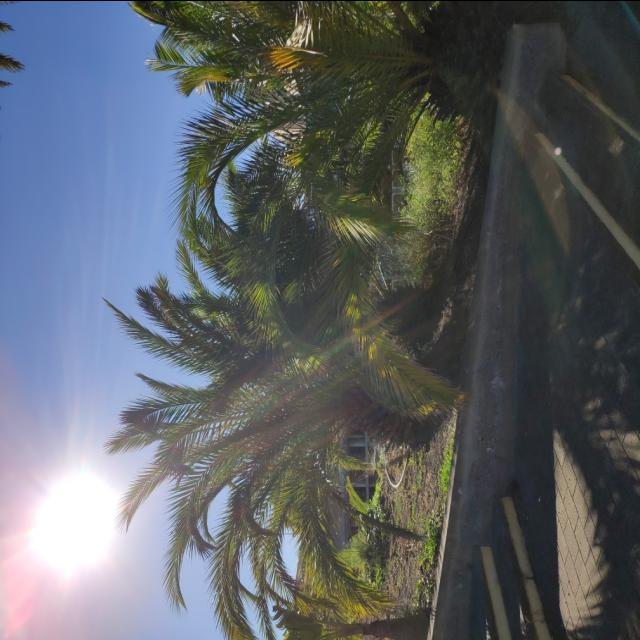Palm-Trees: (119, 229, 427, 580), (194, 2, 500, 210)
